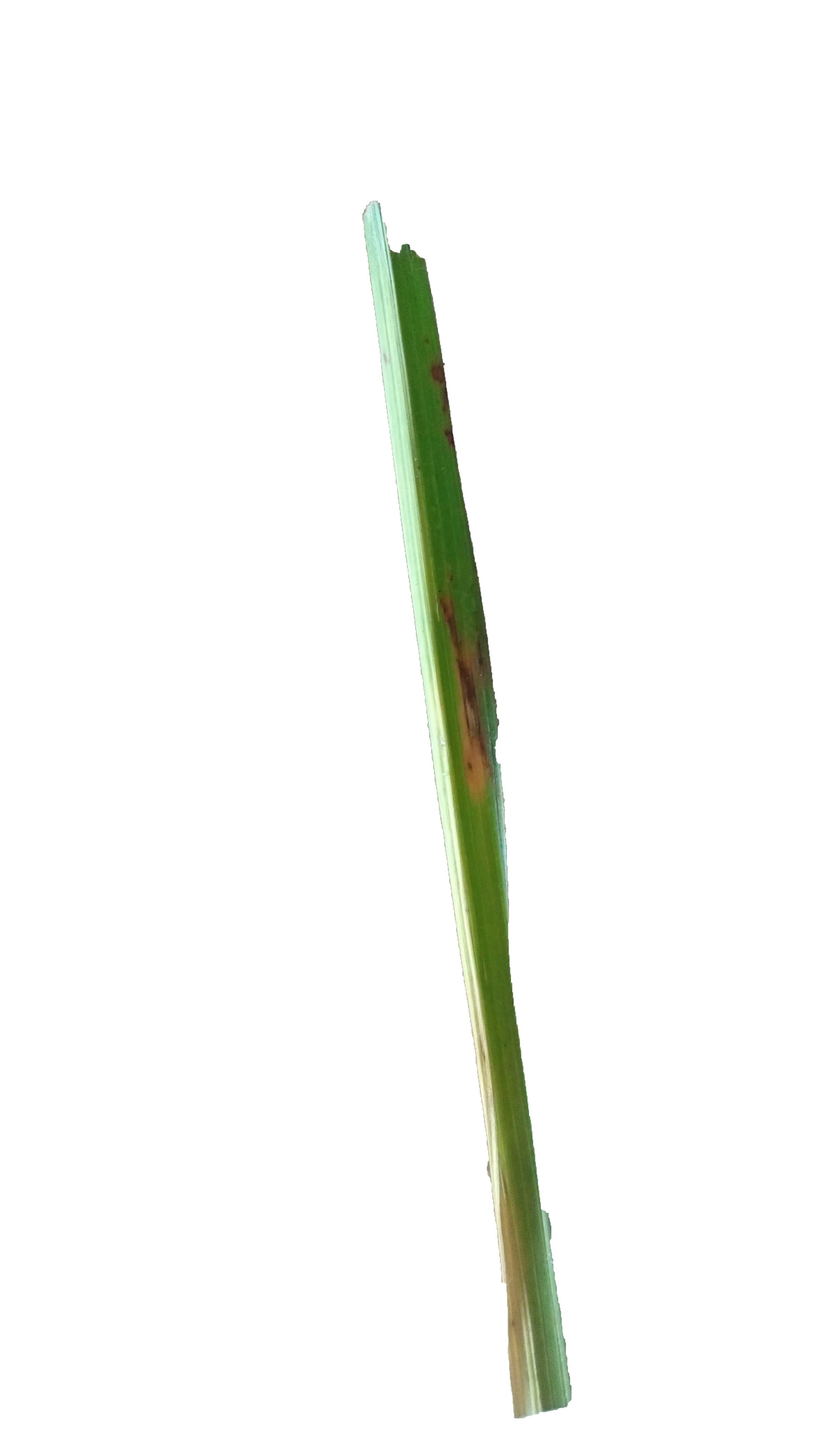Rice blast: (433, 573, 512, 806), (427, 354, 464, 452)
